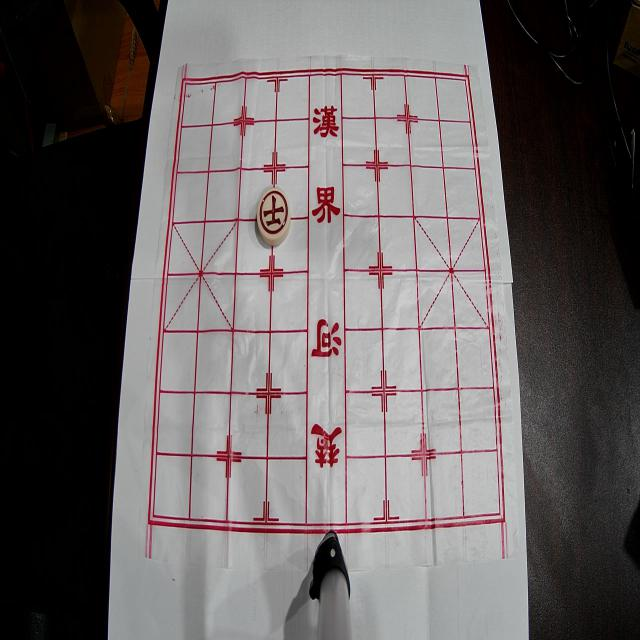red-guard: (256, 188, 290, 246)
